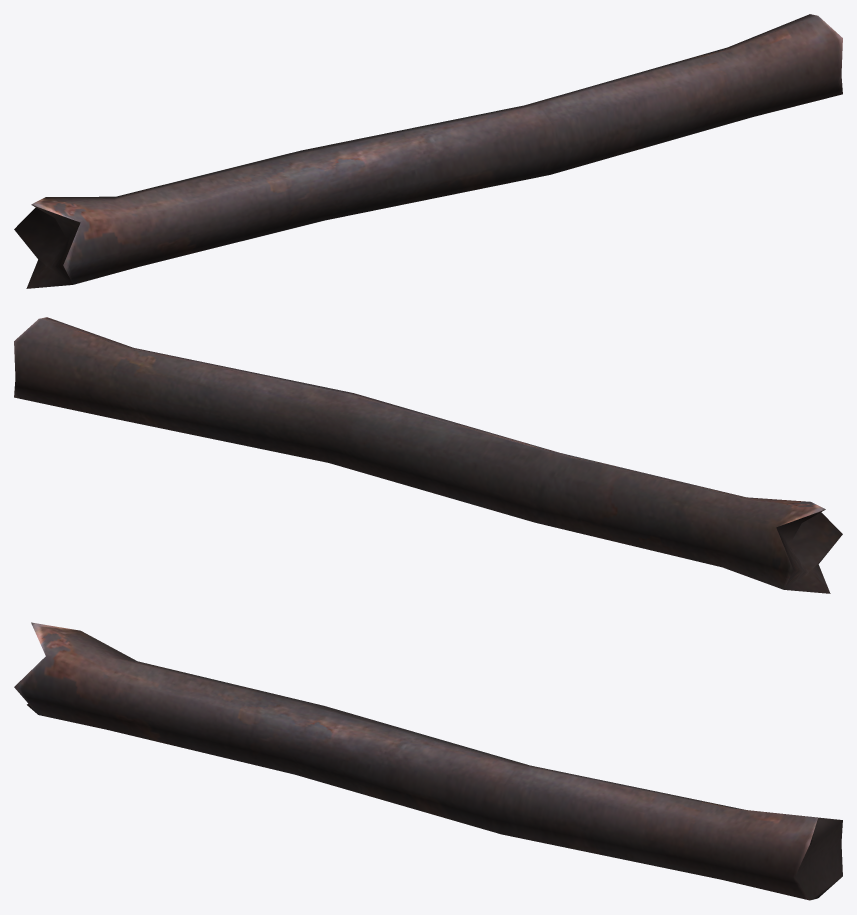
The model's file is SV_AFT_desert_guanzi_1.FBX.
3 renders of one model, top to bottom at view 1: azimuth 30°, elevation 25°; view 2: azimuth 150°, elevation 25°; view 3: azimuth 330°, elevation 25°, orthographic.
Visible parts, largest first — view 1: SV_AFT_desert_guanzi_1; view 2: SV_AFT_desert_guanzi_1; view 3: SV_AFT_desert_guanzi_1.
Boxes of the visible parts, bbox=[...] form: SV_AFT_desert_guanzi_1: bbox=[14, 14, 842, 288]; SV_AFT_desert_guanzi_1: bbox=[14, 317, 842, 593]; SV_AFT_desert_guanzi_1: bbox=[14, 622, 842, 900].
Bounding box in the file's own units: 2.28 × 0.2265 × 0.2727.
